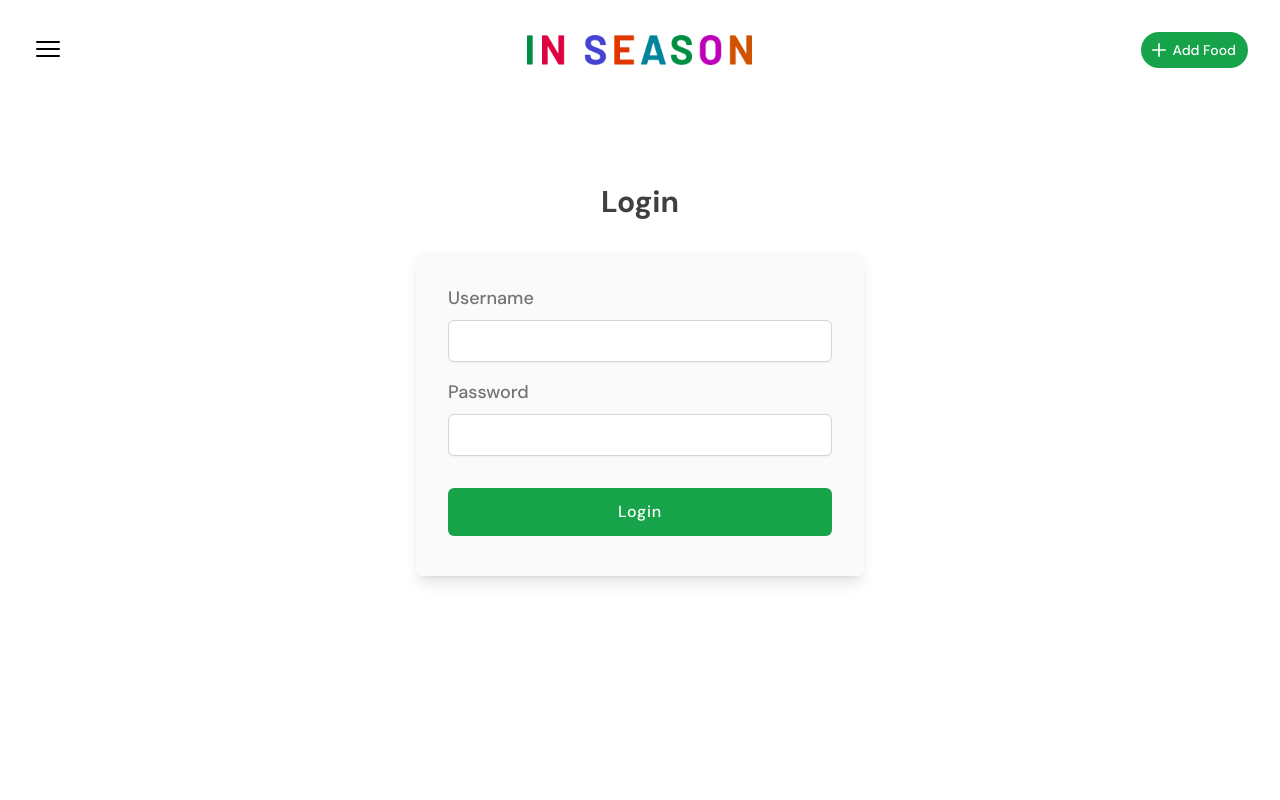
it: login and logout functionality › login fails with wrong credentials
Type "initialUser" into the field with id "username" at (640, 341), box [448,320,832,362]
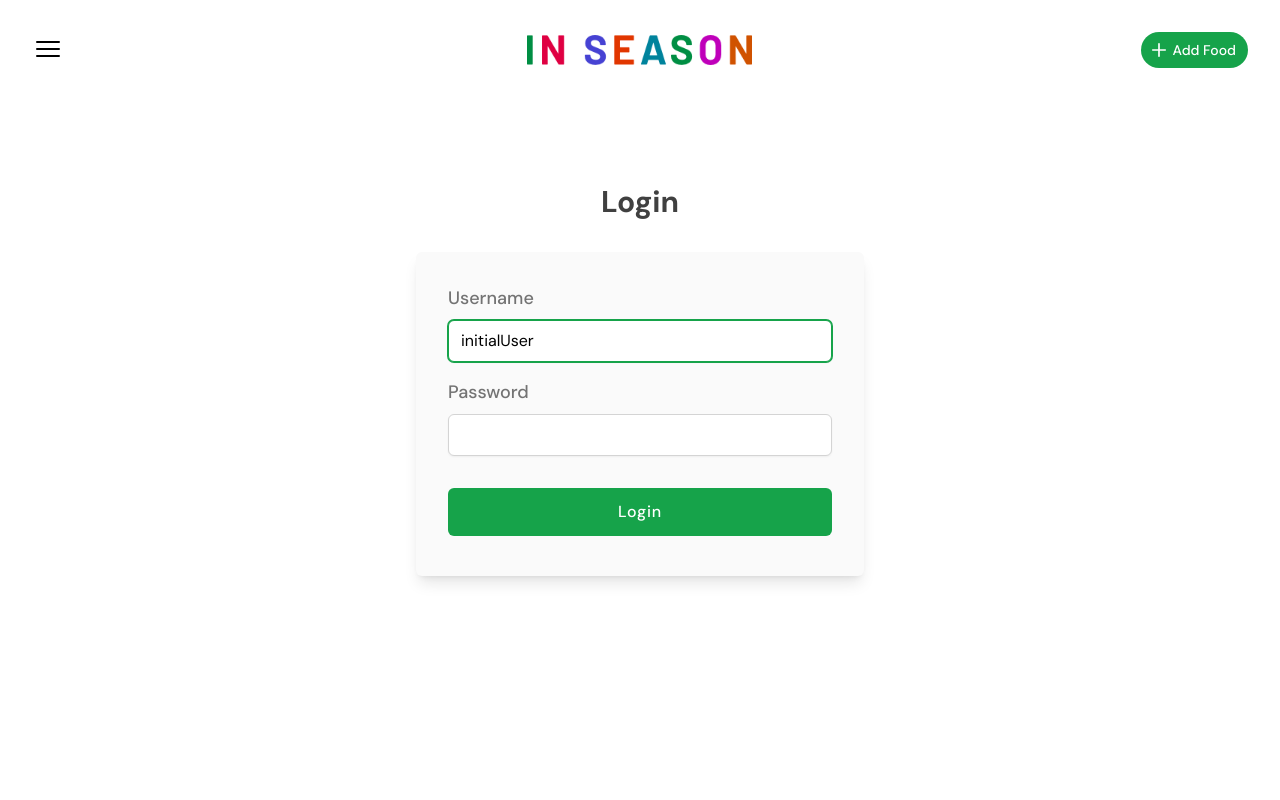
Type "incorrectPassword" into the password field labelled "Password" at (640, 435), box [448,414,832,456]
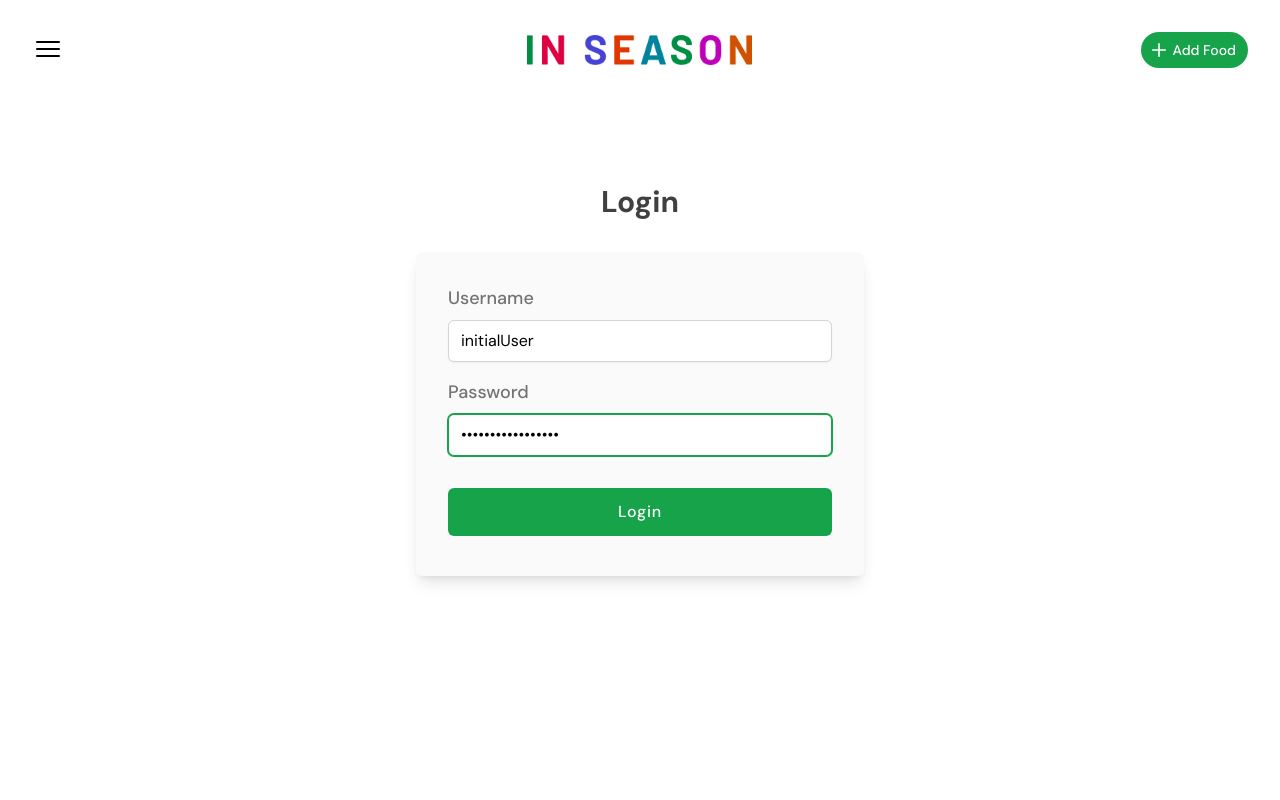
Click the button with id "loginButton" at (640, 512), box [448,488,832,536]
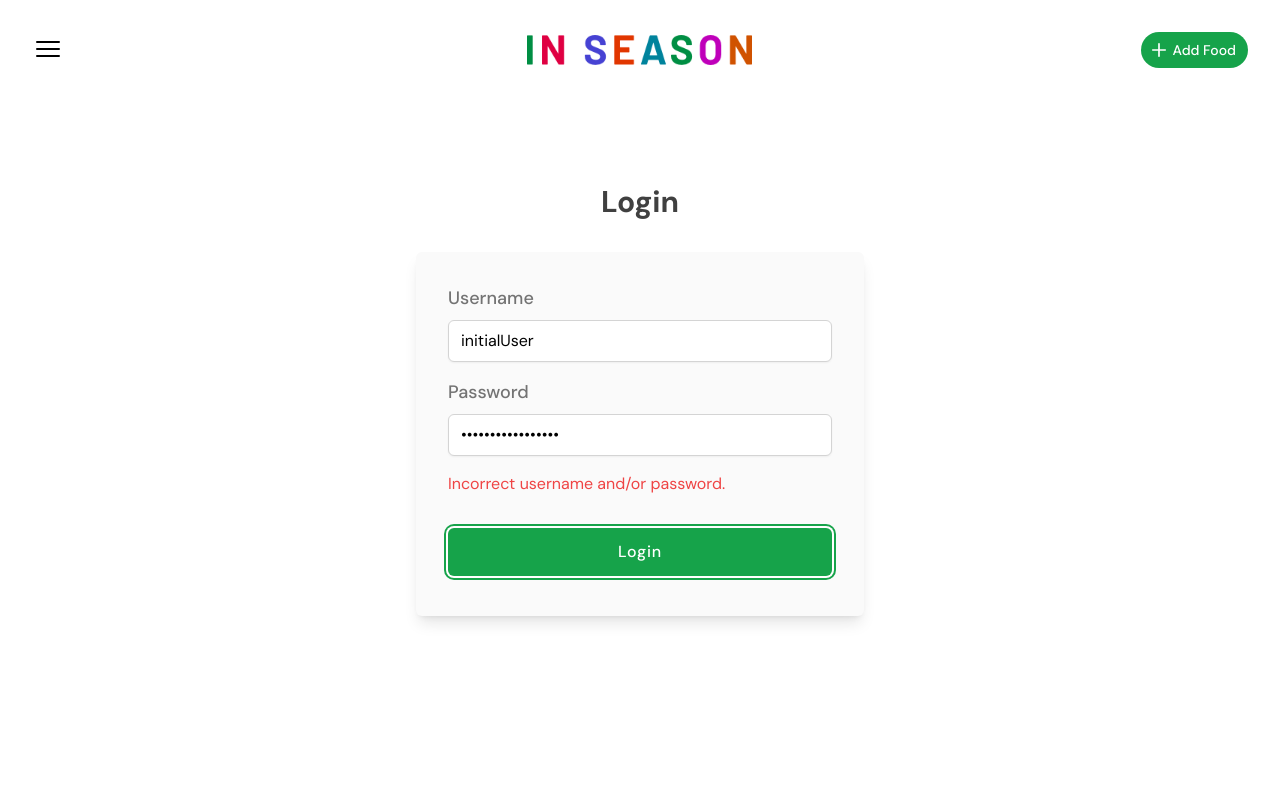
Check: the text "Incorrect username and/or password." is shown, box [448,473,725,494]
